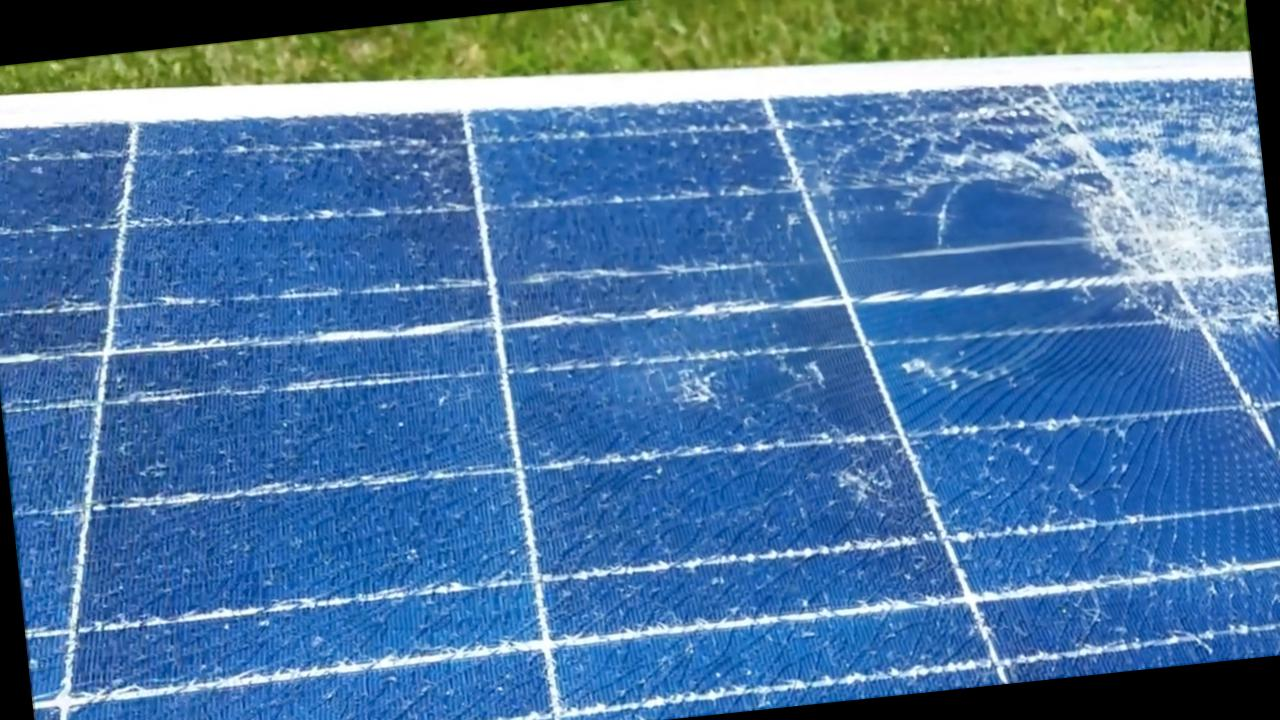Crack: (637, 318, 1024, 548), (1004, 93, 1279, 377), (152, 89, 588, 249), (796, 98, 996, 233)
